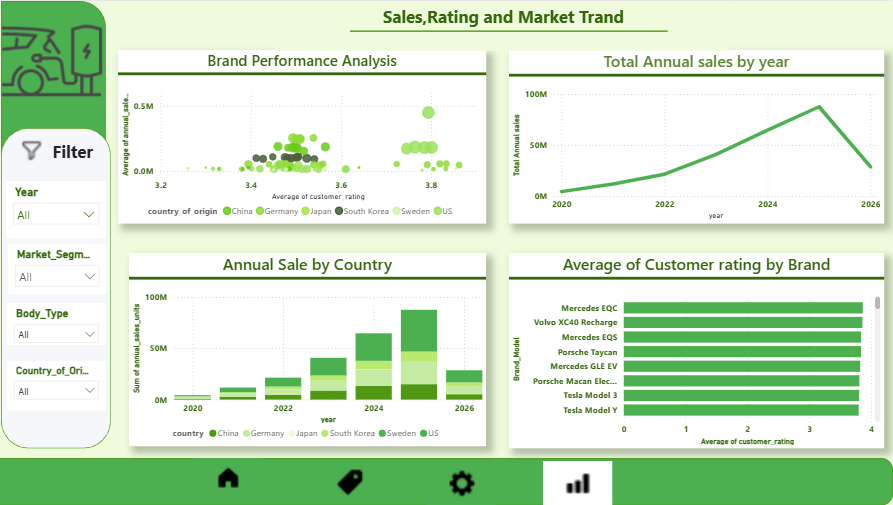

Layout of this report page (visuals, bound fields, positions):
{"tool":"powerbi","page":{"name":" Sales, Ratings & Market Trends","canvas":[1280,720],"ordinal":3},"visuals":[{"type":"shape","box":[5.8,0,149.8,604.8],"z":0},{"type":"actionButton","box":[0,0,157,171.4],"z":1000},{"type":"shape","box":[5.8,181.4,157,457.9],"z":2000},{"type":"actionButton","box":[24.5,181.4,50.4,64.8],"z":3000},{"type":"textbox","box":[74.9,193,70.6,64.8],"z":4000},{"type":"slicer","fields":{"Values":["ev_market_2026 (1).year"]},"box":[13,257.8,142.6,82.1],"z":5000},{"type":"slicer","fields":{"Values":["ev_market_2026 (1).market_segment"]},"box":[15.8,347,141.1,72],"z":6000},{"type":"slicer","fields":{"Values":["ev_market_2026 (1).body_type"]},"box":[14.4,432,141.1,60.5],"z":7000},{"type":"slicer","fields":{"Values":["ev_market_2026 (1).country_of_origin"]},"box":[14.4,514.1,141.1,70.6],"z":8000},{"type":"shape","box":[0,652.3,1280.2,67.7],"z":9000},{"type":"actionButton","box":[280.8,652.3,97.9,56.2],"z":10000},{"type":"actionButton","box":[453.6,661,99.4,51.8],"z":11000},{"type":"actionButton","box":[614.9,656.6,99.4,63.4],"z":12000},{"type":"actionButton","box":[780.5,656.6,99.4,63.4],"z":13000},{"type":"lineChart","fields":{"Category":["ev_market_2026 (1).year"],"Y":["ev_market_2026 (1).Total Annual sales"]},"box":[731.5,70.6,535.7,247.7],"z":14000},{"type":"barChart","title":"Average of Customer rating by Brand","fields":{"Y":["Avg(ev_market_2026 (1).customer_rating)"],"Category":["ev_market_2026 (1).Brand_Model"]},"box":[731.5,360,535.7,279.4],"z":15000},{"type":"columnChart","title":"Annual Sale by Country ","fields":{"Category":["ev_market_2026 (1).year"],"Series":["ev_market_2026 (1).country_of_origin"],"Y":["Sum(ev_market_2026 (1).annual_sales_units)"]},"box":[188.6,360,509.8,276.5],"z":16000},{"type":"scatterChart","title":"Brand Performance Analysis","fields":{"Size":["Count(ev_market_2026 (1).price)"],"Series":["ev_market_2026 (1).country_of_origin"],"Category":["ev_market_2026 (1).Brand_Model"],"X":["ev_market_2026 (1).customer_rating"],"Y":["Avg(ev_market_2026 (1).annual_sales_units)"]},"box":[172.8,70.6,525.6,247.7],"z":17000},{"type":"textbox","box":[398.9,0,649.4,70.6],"z":18000},{"type":"shape","box":[504,15.8,453.6,54.7],"z":18001}]}

Visuals, with their boxes in screenshot pixels (x1, y1, x2, y2), scaled from the page's 1280x720 canvas onto the 893x505 screenshot:
shape: [4,0,109,424]
actionButton: [0,0,110,120]
shape: [4,127,114,448]
actionButton: [17,127,52,173]
textbox: [52,135,102,181]
slicer - ev_market_2026 (1).year: [9,181,109,238]
slicer - ev_market_2026 (1).market_segment: [11,243,109,294]
slicer - ev_market_2026 (1).body_type: [10,303,108,345]
slicer - ev_market_2026 (1).country_of_origin: [10,361,108,410]
shape: [0,458,892,504]
actionButton: [196,458,264,497]
actionButton: [316,464,386,500]
actionButton: [429,461,498,504]
actionButton: [545,461,614,504]
lineChart - ev_market_2026 (1).year x ev_market_2026 (1).Total Annual sales: [510,50,884,223]
"Average of Customer rating by Brand" barChart: [510,252,884,448]
"Annual Sale by Country " columnChart: [132,252,487,446]
"Brand Performance Analysis" scatterChart: [121,50,487,223]
textbox: [278,0,731,50]
shape: [352,11,668,49]
